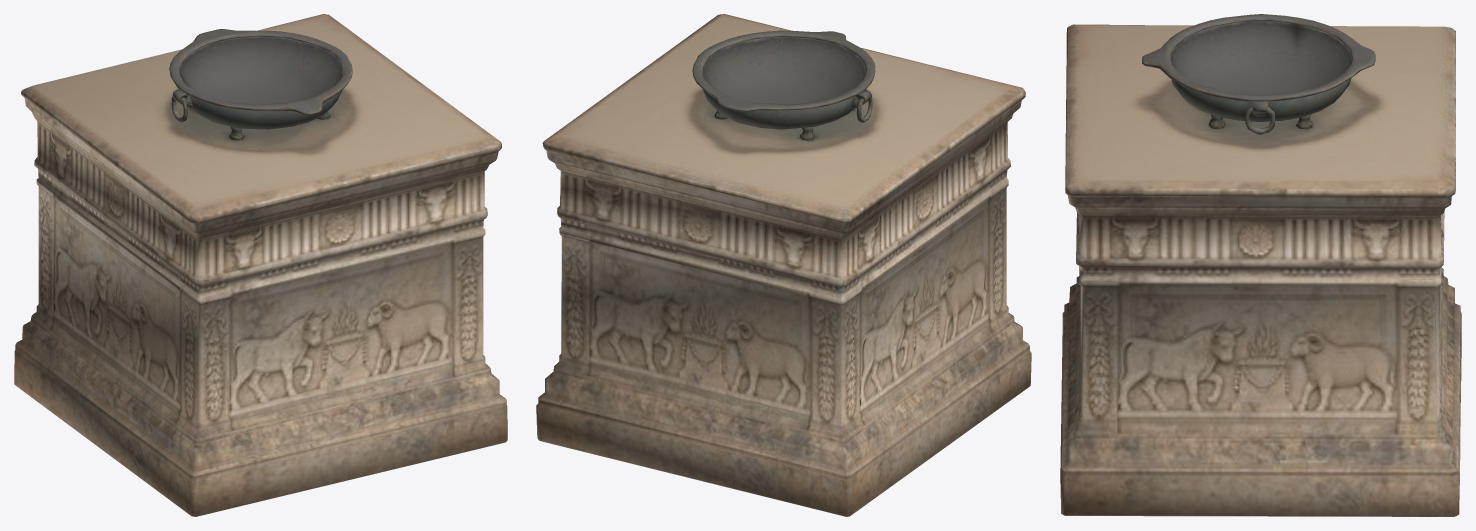
The model's file is marble_altar.glb.
The picture shows the model from 3 angles, left to right: view 1: azimuth 30°, elevation 25°; view 2: azimuth 150°, elevation 25°; view 3: azimuth 270°, elevation 25°; orthographic projection. The views are drawn at different scales.
Bounding box in the file's own units: 1.16 × 1.2 × 1.16.
1 material, 1 textured.
